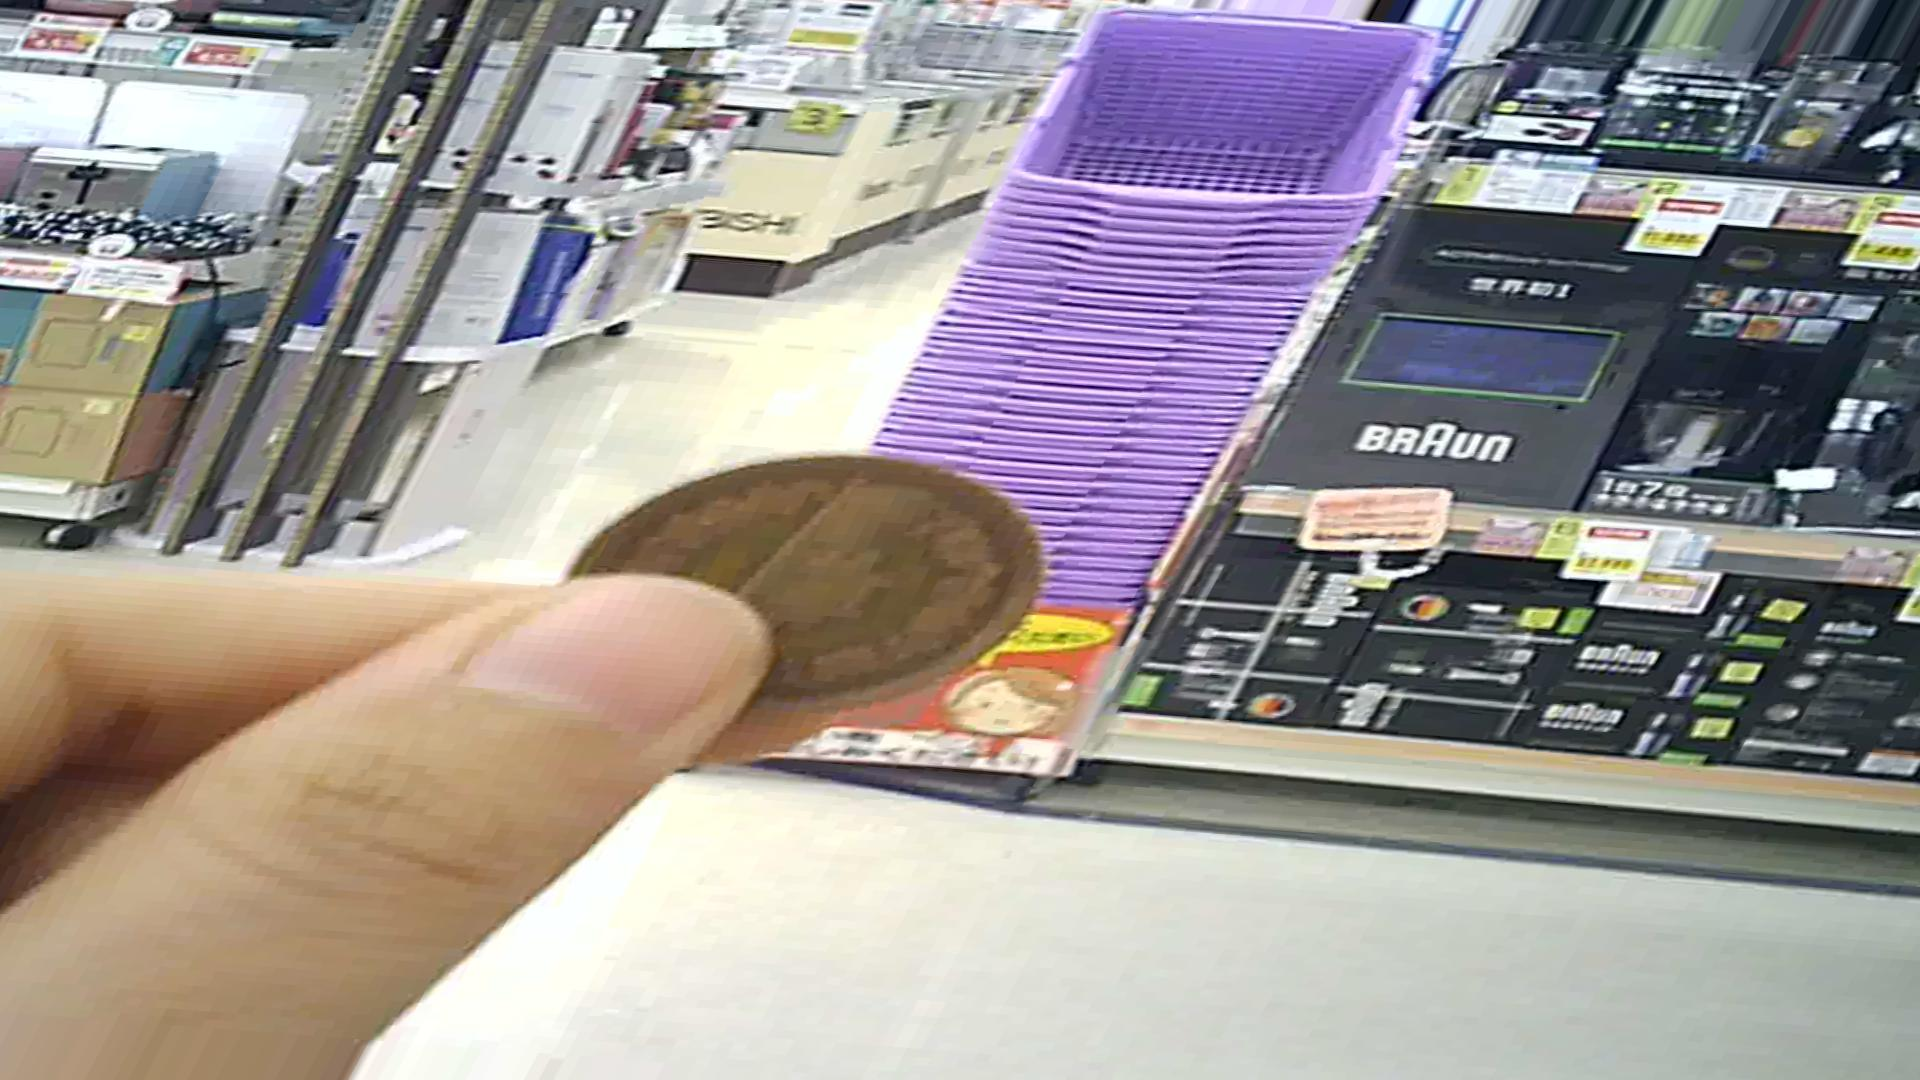10 Yen: (570, 465, 1062, 712)
